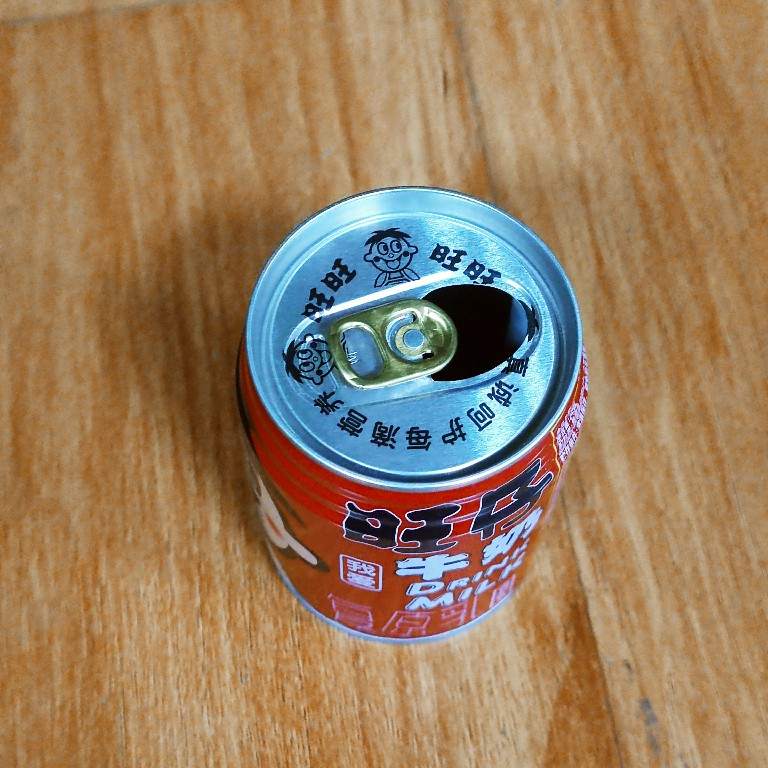can: (231, 181, 592, 647)
